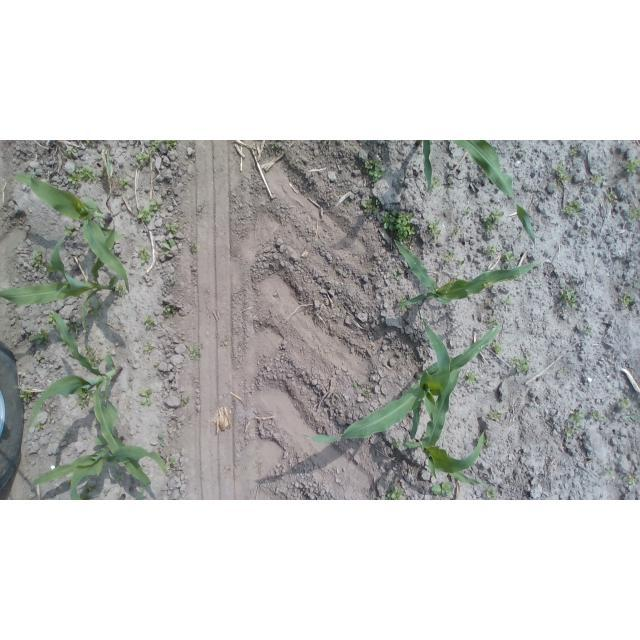Maize: (303, 317, 498, 444), (27, 310, 152, 486), (12, 167, 131, 295), (415, 140, 536, 249), (1, 224, 118, 333), (402, 367, 486, 487), (394, 239, 538, 307), (30, 436, 168, 500)
Weeds: (67, 164, 95, 188), (397, 212, 416, 244), (137, 199, 162, 221), (484, 208, 505, 232), (365, 160, 386, 182), (560, 287, 579, 309), (85, 345, 104, 367), (30, 328, 51, 345), (553, 161, 569, 183), (381, 210, 398, 230), (432, 482, 453, 497), (510, 357, 530, 372), (135, 149, 151, 167), (385, 486, 405, 500), (624, 157, 640, 174), (78, 484, 95, 500), (361, 199, 379, 214), (79, 391, 94, 409), (563, 201, 582, 215), (428, 222, 441, 241), (90, 301, 105, 317), (33, 249, 46, 267), (570, 412, 585, 427), (165, 222, 180, 237), (620, 292, 634, 308), (139, 389, 153, 405), (627, 204, 640, 221), (19, 387, 33, 402), (163, 238, 176, 254), (138, 247, 151, 263), (46, 260, 58, 277), (476, 436, 492, 448), (492, 341, 505, 355), (116, 282, 129, 296), (161, 304, 175, 317), (68, 318, 79, 334), (504, 252, 517, 264), (465, 371, 478, 383), (189, 346, 202, 358), (64, 225, 77, 237), (485, 244, 497, 256), (486, 487, 497, 500), (119, 177, 130, 189), (47, 314, 57, 327), (144, 315, 154, 328), (489, 411, 501, 421), (65, 147, 77, 157), (161, 141, 177, 148), (391, 438, 401, 449), (487, 319, 498, 329), (592, 173, 603, 183), (627, 473, 636, 485), (430, 178, 440, 188), (445, 252, 455, 262), (143, 342, 153, 352), (159, 432, 166, 446), (566, 426, 575, 436), (619, 399, 629, 408), (36, 353, 45, 363), (113, 471, 123, 480), (151, 141, 159, 152), (180, 397, 189, 406), (622, 415, 638, 420), (191, 241, 198, 252), (590, 410, 598, 419), (504, 296, 511, 306), (59, 335, 66, 345), (453, 228, 460, 237), (393, 272, 400, 281), (608, 192, 615, 201), (168, 458, 177, 465), (586, 328, 593, 336), (462, 209, 471, 215), (362, 391, 369, 398), (571, 149, 578, 156), (398, 296, 406, 302), (66, 479, 70, 490), (36, 424, 42, 431), (221, 339, 227, 346), (269, 141, 275, 148), (582, 228, 587, 236), (343, 200, 349, 206), (401, 305, 407, 311), (600, 417, 607, 422), (100, 169, 104, 177), (606, 469, 611, 475), (457, 260, 464, 264), (557, 184, 561, 191), (353, 383, 358, 388), (558, 369, 563, 374), (104, 491, 109, 496), (172, 279, 177, 284), (448, 180, 453, 184), (85, 141, 91, 144), (198, 207, 202, 211), (95, 156, 99, 160), (47, 360, 50, 365)
